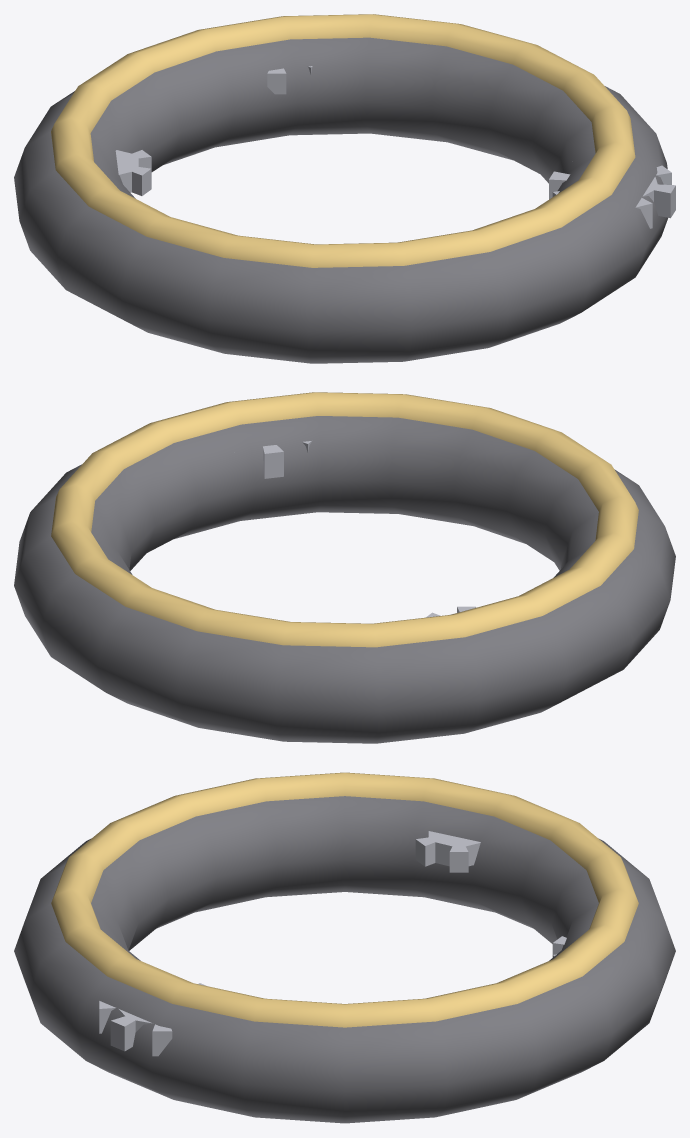
Rendered from neck_cog_collar.glb.
The picture shows the model from 3 angles, top to bottom: view 1: azimuth 30°, elevation 25°; view 2: azimuth 150°, elevation 25°; view 3: azimuth 270°, elevation 25°; orthographic projection.
Visible parts, largest first — view 1: collar, ring, gears; view 2: collar, ring, gears; view 3: collar, ring, gears.
Boxes of the visible parts, bbox=[...] form: collar: bbox=[14, 37, 667, 363]; ring: bbox=[51, 14, 635, 267]; gears: bbox=[115, 66, 675, 228]; collar: bbox=[14, 416, 675, 743]; ring: bbox=[51, 392, 638, 647]; gears: bbox=[234, 441, 475, 617]; collar: bbox=[14, 796, 675, 1123]; ring: bbox=[51, 772, 638, 1027]; gears: bbox=[99, 831, 566, 1056].
Size of the model in its own units: 0.29 by 0.0538 by 0.29.
